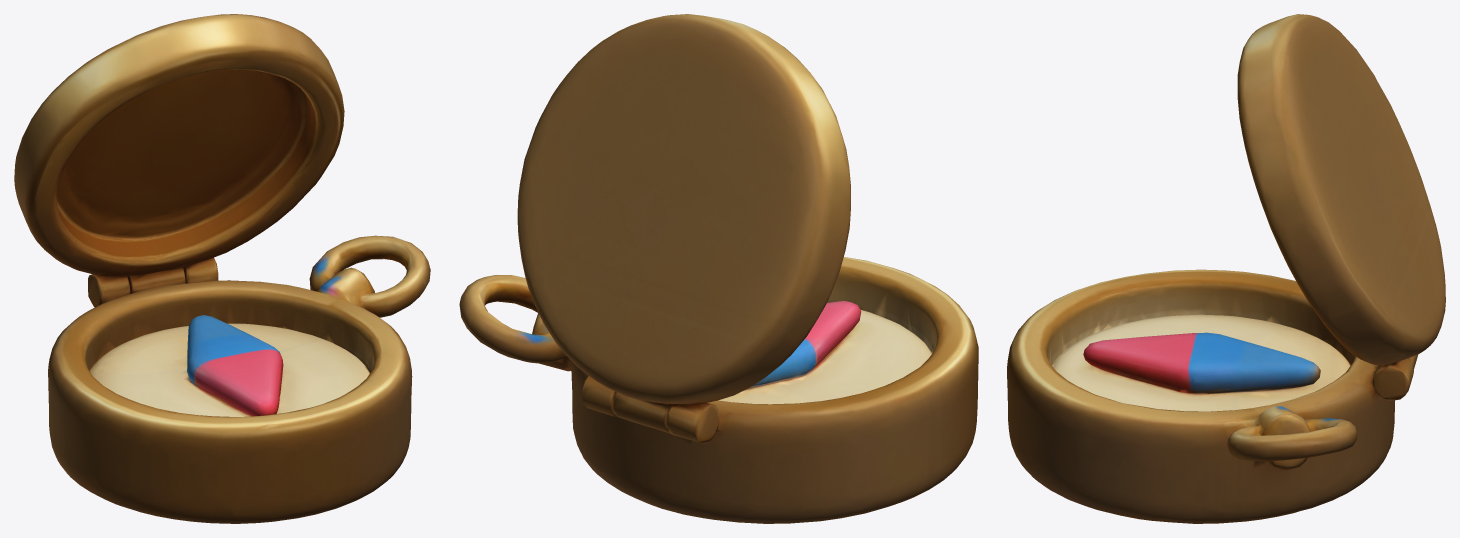
File: acc-compass.glb
The picture shows the model from 3 angles, left to right: view 1: azimuth 30°, elevation 25°; view 2: azimuth 150°, elevation 25°; view 3: azimuth 270°, elevation 25°; orthographic projection. The views are drawn at different scales.
Visible parts, largest first — view 1: tripo_node_5e0bfb40-461a-45b4-bfeb-0ab3a5d71313; view 2: tripo_node_5e0bfb40-461a-45b4-bfeb-0ab3a5d71313; view 3: tripo_node_5e0bfb40-461a-45b4-bfeb-0ab3a5d71313.
Boxes of the visible parts, x1,y1,x2,y2 form: tripo_node_5e0bfb40-461a-45b4-bfeb-0ab3a5d71313: (14, 14, 430, 523); tripo_node_5e0bfb40-461a-45b4-bfeb-0ab3a5d71313: (459, 14, 978, 523); tripo_node_5e0bfb40-461a-45b4-bfeb-0ab3a5d71313: (1007, 14, 1445, 523).
Size of the model in its own units: 1 by 0.9916 by 0.9269.
1 material, 1 textured.
